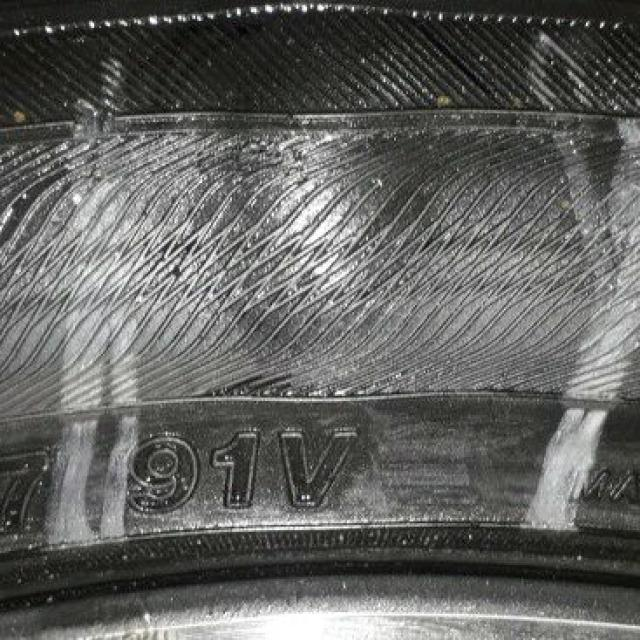Bulge: (216, 89, 437, 366)
